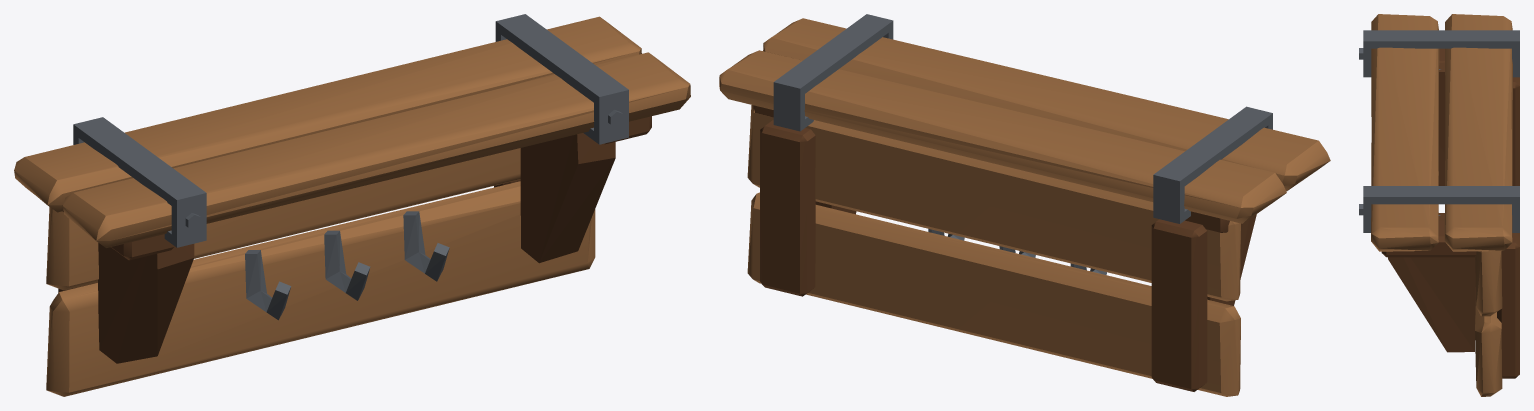
Rendered from smith_wall_shelf.glb.
3 views of the same model, side by side, from view 1: azimuth 30°, elevation 25°; view 2: azimuth 150°, elevation 25°; view 3: azimuth 270°, elevation 25° (orthographic). The views are drawn at different scales.
Visible parts, largest first — view 1: back_board_plank_1, shelf_plank_1, shelf_plank_0, back_board_plank_0, bracket_right, bracket_left, strap_r_band, strap_l_band, hook_1, hook_2, hook_0, shelf_batten_left; view 2: back_board_plank_1, back_board_plank_0, shelf_plank_0, shelf_plank_1, back_board_batten_left, back_board_batten_right, strap_r_band, strap_l_band, bracket_left, shelf_batten_left; view 3: shelf_plank_1, shelf_plank_0, bracket_right, strap_r_band, strap_l_band, back_board_batten_right, back_board_plank_1, back_board_plank_0, shelf_batten_right, back_board_batten_left, bracket_left.
Boxes of the visible parts, left/top/right/bottom form: back_board_plank_1: left=46, top=181, right=595, bottom=396; shelf_plank_1: left=63, top=52, right=690, bottom=247; shelf_plank_0: left=14, top=16, right=641, bottom=212; back_board_plank_0: left=46, top=148, right=520, bottom=290; bracket_right: left=520, top=133, right=615, bottom=263; bracket_left: left=98, top=243, right=194, bottom=363; strap_r_band: left=495, top=14, right=628, bottom=144; strap_l_band: left=73, top=117, right=206, bottom=247; hook_1: left=324, top=230, right=370, bottom=300; hook_2: left=403, top=211, right=449, bottom=281; hook_0: left=245, top=250, right=291, bottom=320; shelf_batten_left: left=63, top=211, right=174, bottom=260; back_board_plank_1: left=747, top=192, right=1240, bottom=396; back_board_plank_0: left=747, top=105, right=1240, bottom=301; shelf_plank_0: left=719, top=50, right=1286, bottom=223; shelf_plank_1: left=763, top=18, right=1330, bottom=191; back_board_batten_left: left=1151, top=219, right=1207, bottom=391; back_board_batten_right: left=760, top=120, right=815, bottom=296; strap_r_band: left=773, top=14, right=893, bottom=131; strap_l_band: left=1153, top=106, right=1272, bottom=223; bracket_left: left=1207, top=214, right=1256, bottom=305; shelf_batten_left: left=1185, top=211, right=1229, bottom=232; shelf_plank_1: left=1371, top=14, right=1439, bottom=251; shelf_plank_0: left=1444, top=14, right=1512, bottom=251; bracket_right: left=1388, top=213, right=1475, bottom=352; strap_r_band: left=1359, top=186, right=1519, bottom=232; strap_l_band: left=1359, top=30, right=1519, bottom=77; back_board_batten_right: left=1497, top=233, right=1519, bottom=378; back_board_plank_1: left=1475, top=287, right=1502, bottom=396; back_board_plank_0: left=1475, top=251, right=1502, bottom=316; shelf_batten_right: left=1381, top=220, right=1476, bottom=257; back_board_batten_left: left=1512, top=77, right=1519, bottom=185; bracket_left: left=1438, top=62, right=1445, bottom=185.
Size of what is drawn, in the model's own units: 0.9046 by 0.357 by 0.2792.
